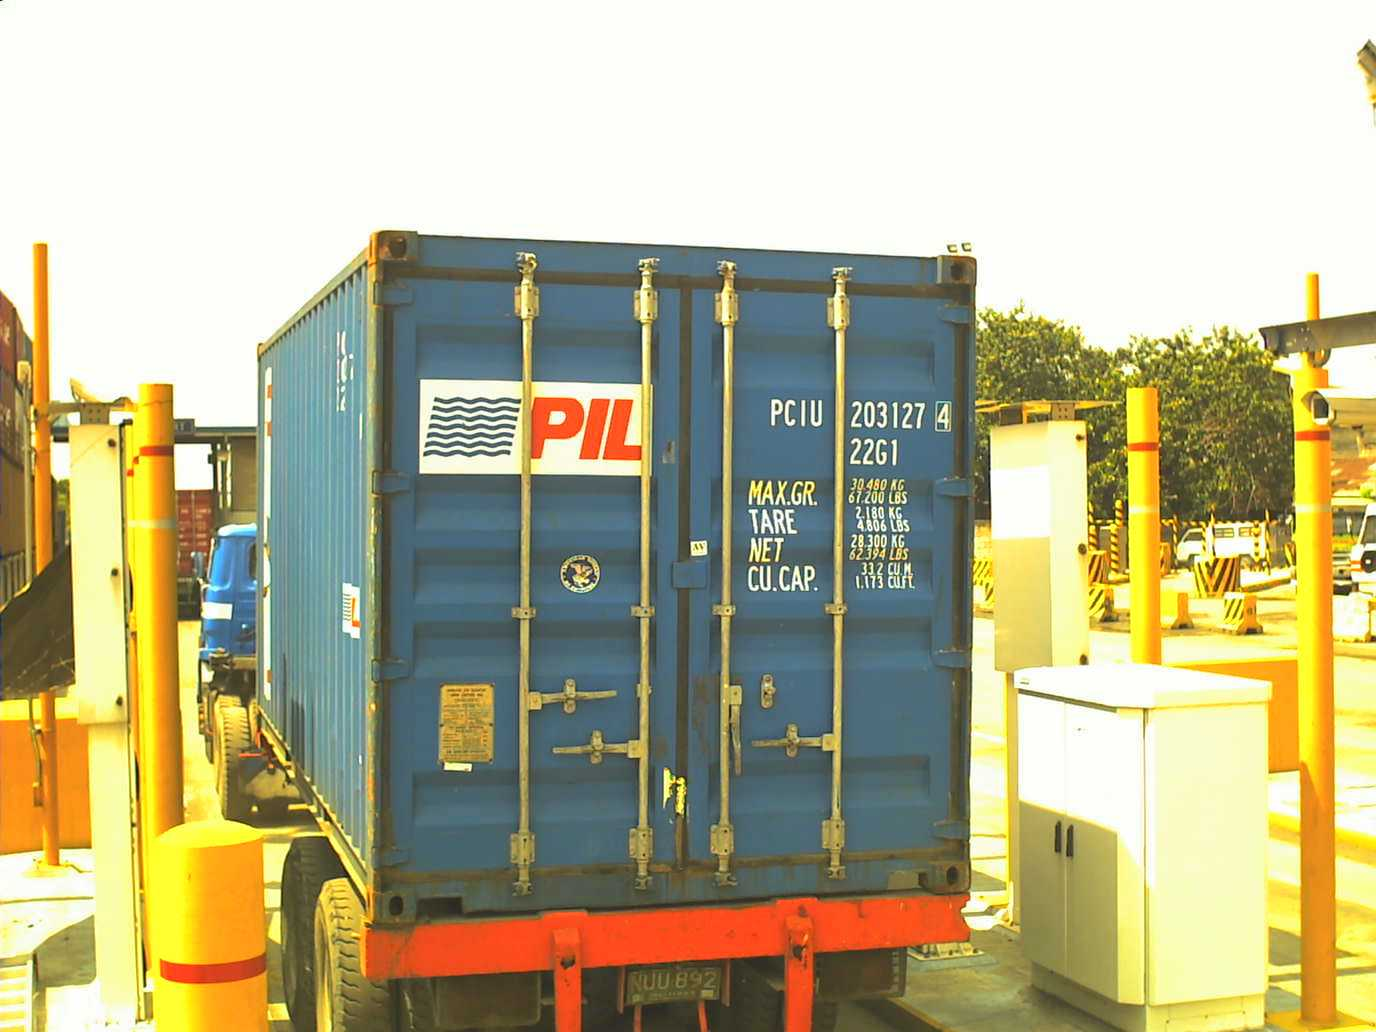container_door: (367, 227, 971, 923)
